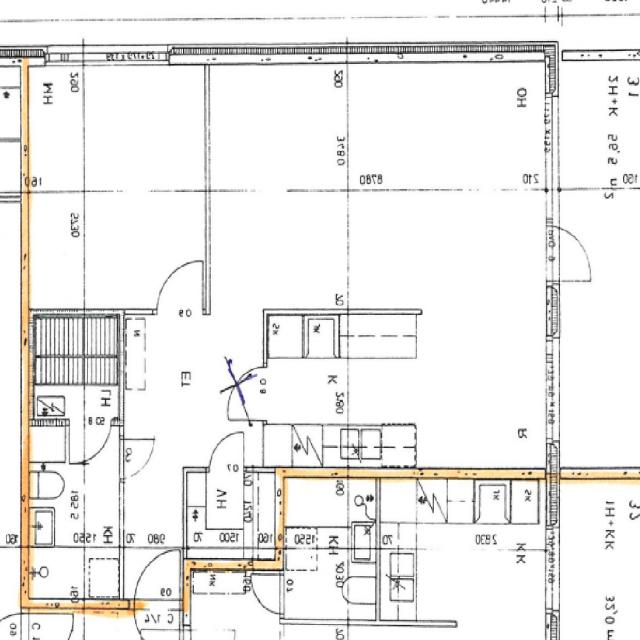door: (546, 228, 605, 280), (135, 546, 180, 608), (158, 255, 203, 314), (70, 418, 111, 474), (135, 599, 180, 640), (210, 426, 243, 472), (120, 439, 157, 478)
